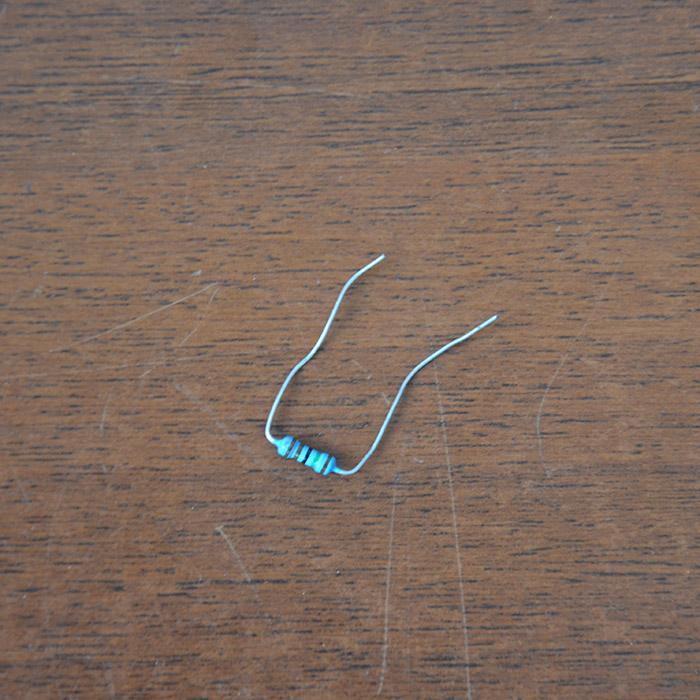resistor: (275, 432, 340, 481)
